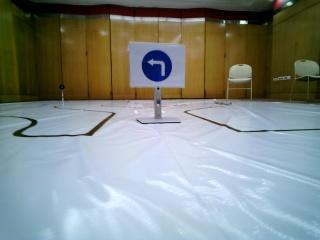left: (132, 45, 188, 90)
